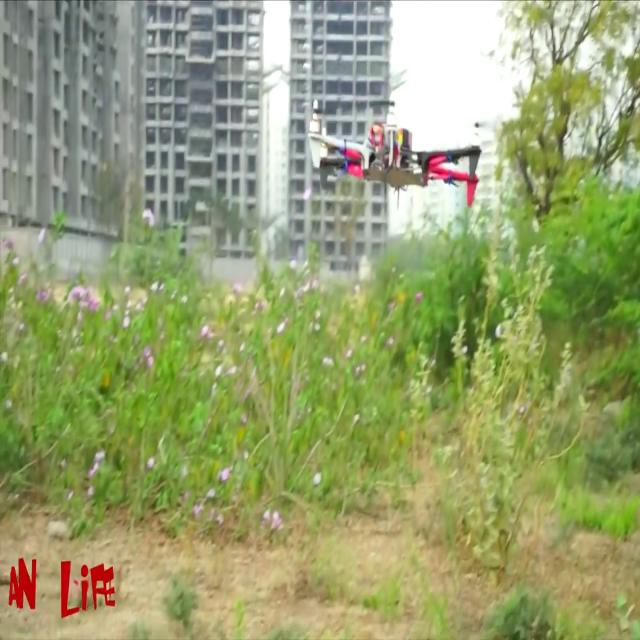drone: (294, 90, 498, 231)
